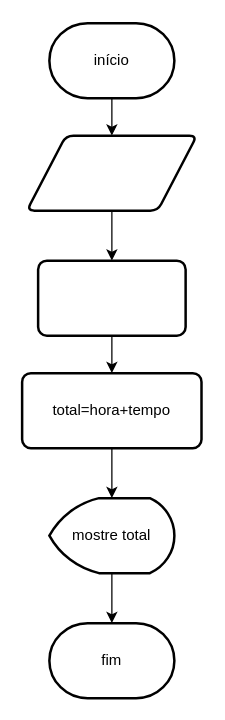
This 225x720 diagram has some shape labels left out. Here are the shapes that lost their labels. From the top down, the centre of each, then its label:
[111,172]: hora,minuto,total
[111,297]: tempo=minuto/60
